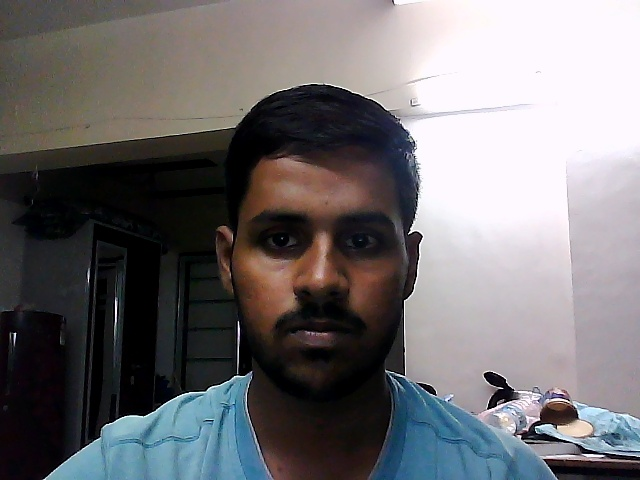awake: (178, 78, 466, 405)
